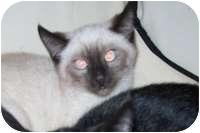siamese: (39, 1, 146, 99)
